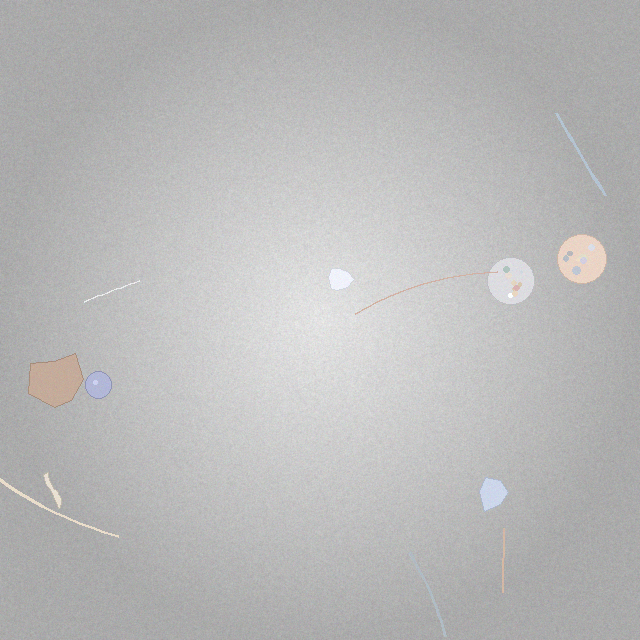fiber: (0, 457, 121, 539), (353, 270, 500, 317), (553, 110, 609, 199), (406, 549, 449, 639), (82, 279, 142, 304), (500, 526, 506, 595)
film: (44, 472, 62, 508)
foam: (558, 235, 607, 284), (488, 257, 535, 304)
fragment: (29, 354, 83, 408), (480, 477, 509, 511), (329, 268, 355, 290)
pellet: (85, 372, 112, 398)
